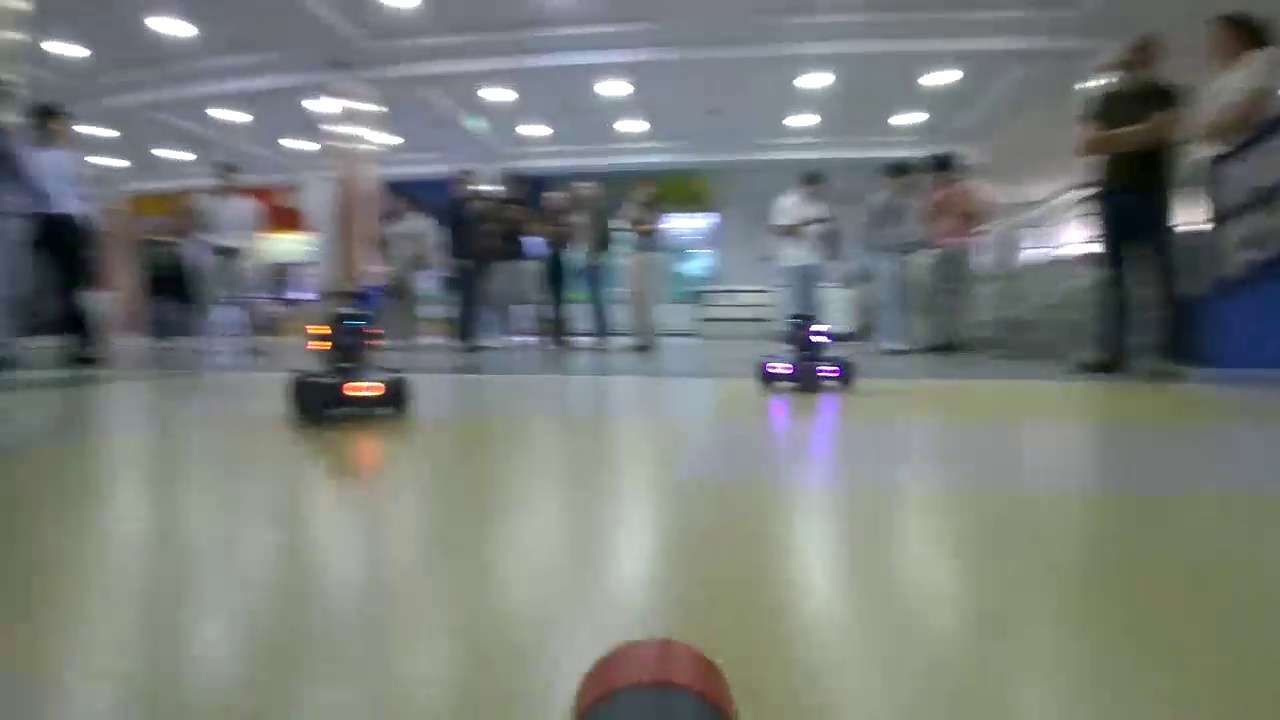robot: (288, 308, 412, 426), (758, 314, 852, 394)
